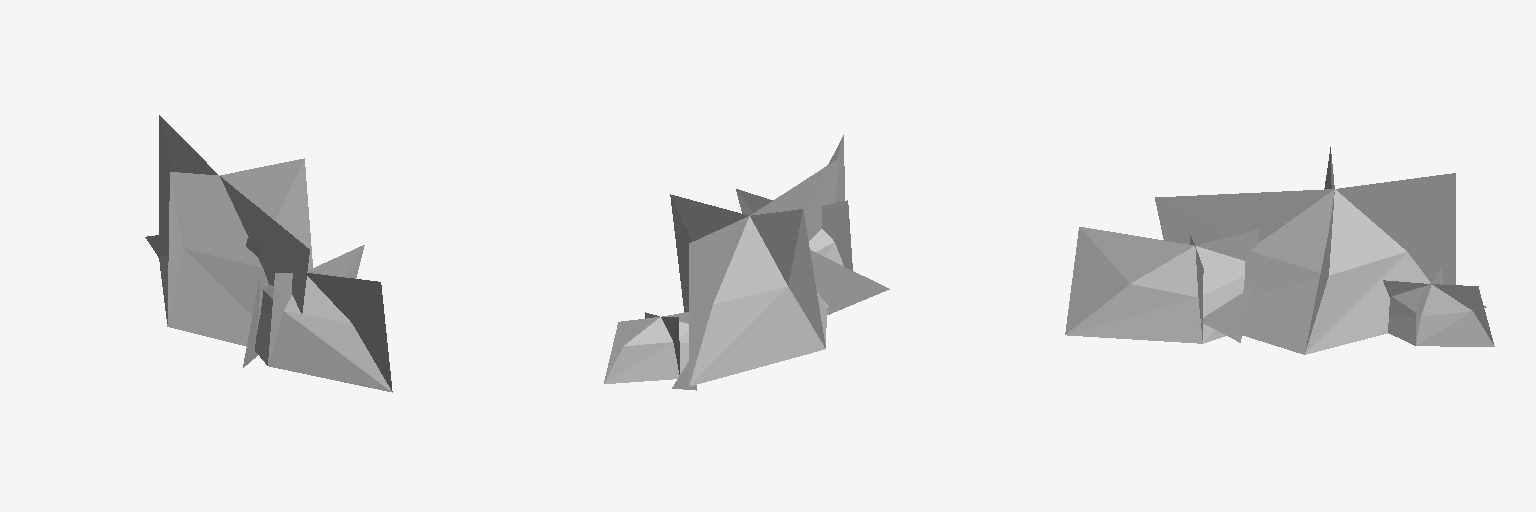
File: elwynnbush01.obj
The picture shows the model from 3 angles: view 1: azimuth 30°, elevation 25°; view 2: azimuth 150°, elevation 25°; view 3: azimuth 270°, elevation 25°; orthographic projection.
Parts seen in each view (by area): view 1: ElwynnBush01; view 2: ElwynnBush01; view 3: ElwynnBush01.
Part boxes in pixels (left/top/right/bottom): ElwynnBush01: left=145, top=115, right=392, bottom=392; ElwynnBush01: left=604, top=135, right=889, bottom=390; ElwynnBush01: left=1065, top=147, right=1494, bottom=354.
Bounding box in the file's own units: 4.84 × 5.08 × 12.3.